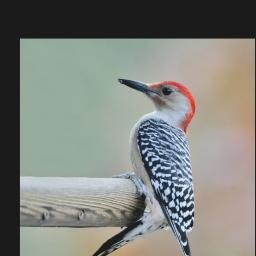Woodpecker: (78, 70, 206, 256)
